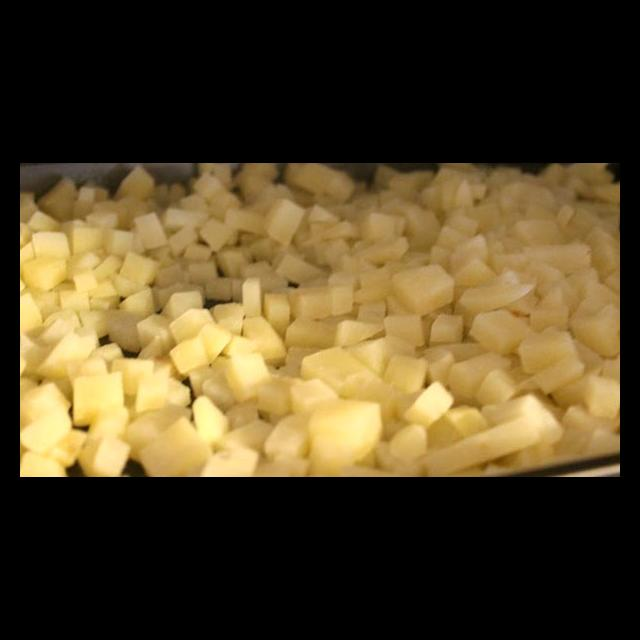potato: (20, 177, 620, 454)
